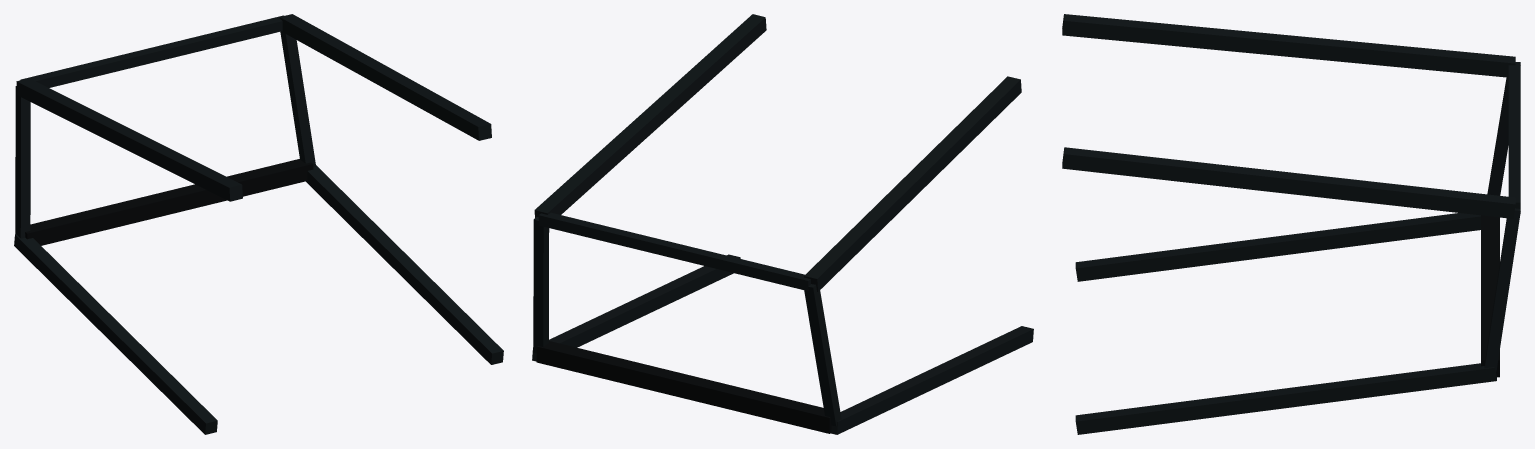
The model's file is Cockpit_FixedWing__Frame.obj.
The picture shows the model from 3 angles, left to right: view 1: azimuth 30°, elevation 25°; view 2: azimuth 150°, elevation 25°; view 3: azimuth 270°, elevation 25°; orthographic projection. The views are drawn at different scales.
Visible parts, largest first — view 1: Windscreen_sill, Cabin_lower_rail, Canopy_roof_rail, Cabin_lower_rail.001, Canopy_roof_rail.001, Windscreen_brow, Canopy_A_pillar, Canopy_A_pillar.001; view 2: Windscreen_sill, Canopy_roof_rail.001, Canopy_roof_rail, Windscreen_brow, Cabin_lower_rail, Cabin_lower_rail.001, Canopy_A_pillar, Canopy_A_pillar.001; view 3: Canopy_roof_rail.001, Canopy_roof_rail, Cabin_lower_rail.001, Cabin_lower_rail, Windscreen_sill, Canopy_A_pillar.001, Windscreen_brow, Canopy_A_pillar.
Boxes of the visible parts, x1,y1,x2,y2 form: Windscreen_sill: [25, 159, 313, 245]; Cabin_lower_rail: [14, 234, 217, 434]; Canopy_roof_rail: [16, 78, 242, 201]; Cabin_lower_rail.001: [306, 165, 503, 364]; Canopy_roof_rail.001: [279, 14, 491, 140]; Windscreen_brow: [20, 15, 283, 87]; Canopy_A_pillar: [15, 86, 30, 238]; Canopy_A_pillar.001: [280, 31, 315, 167]; Windscreen_sill: [536, 341, 831, 433]; Canopy_roof_rail.001: [534, 14, 766, 217]; Canopy_roof_rail: [804, 76, 1021, 291]; Windscreen_brow: [538, 212, 810, 290]; Cabin_lower_rail: [831, 326, 1033, 434]; Cabin_lower_rail.001: [532, 254, 740, 361]; Canopy_A_pillar: [804, 284, 841, 426]; Canopy_A_pillar.001: [533, 216, 549, 353]; Canopy_roof_rail.001: [1062, 147, 1515, 218]; Canopy_roof_rail: [1062, 14, 1515, 77]; Cabin_lower_rail.001: [1075, 363, 1496, 434]; Cabin_lower_rail: [1075, 213, 1480, 281]; Windscreen_sill: [1481, 215, 1499, 377]; Canopy_A_pillar.001: [1484, 208, 1520, 371]; Windscreen_brow: [1508, 62, 1520, 213]; Canopy_A_pillar: [1487, 77, 1508, 195].
Bounding box in the file's own units: 1.39 × 1.11 × 1.7.
